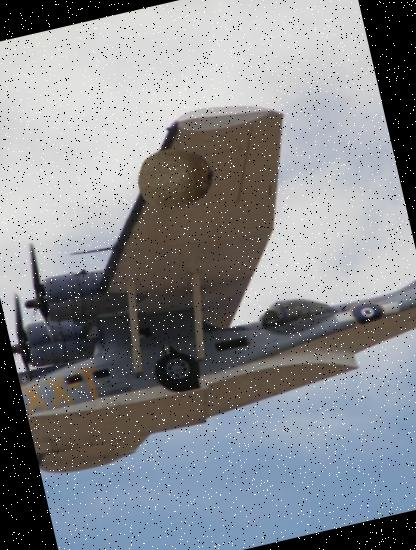Kiwi: (128, 130, 223, 225)
